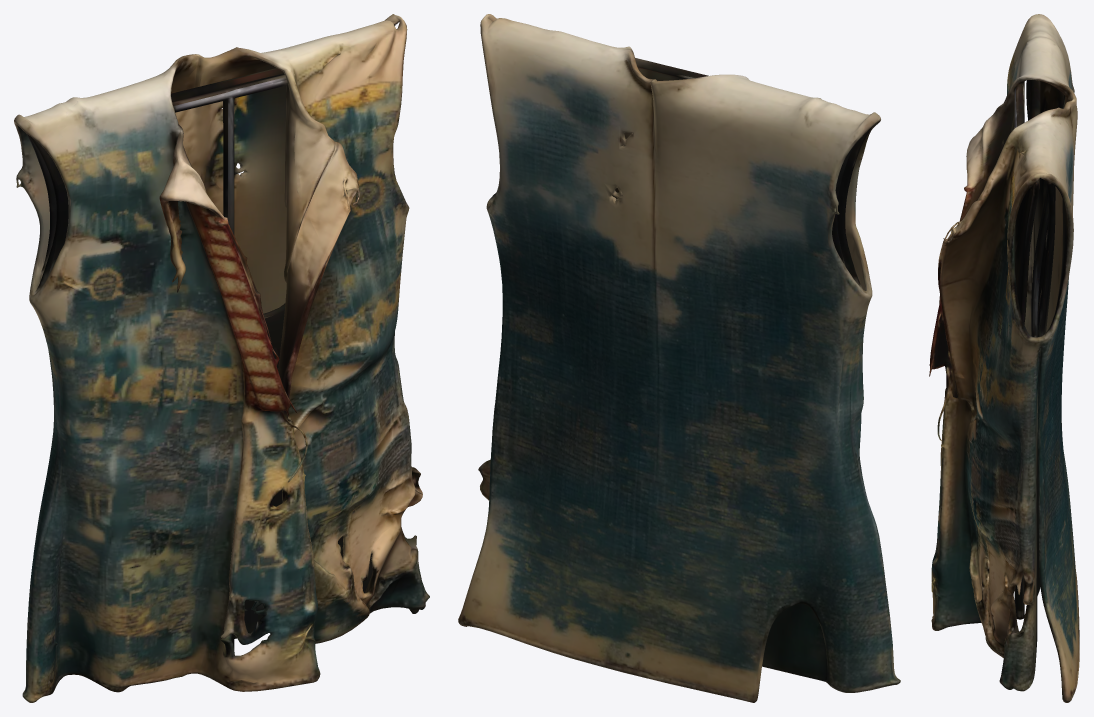
File: rompi.glb
3 views of the same model, side by side, from view 1: azimuth 30°, elevation 25°; view 2: azimuth 150°, elevation 25°; view 3: azimuth 270°, elevation 25° (orthographic). The views are drawn at different scales.
Visible parts, largest first — view 1: convert; view 2: convert; view 3: convert.
Boxes of the visible parts, left/top/right/bottom form: convert: left=14, top=14, right=429, bottom=702; convert: left=458, top=14, right=900, bottom=702; convert: left=929, top=14, right=1079, bottom=702.
Size of the model in its own units: 0.7036 by 0.9783 by 0.2528.
1 material, 1 textured.
